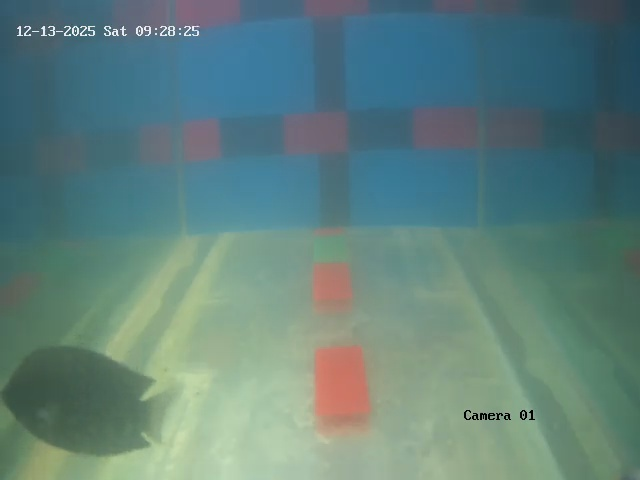fish: (7, 339, 155, 452)
